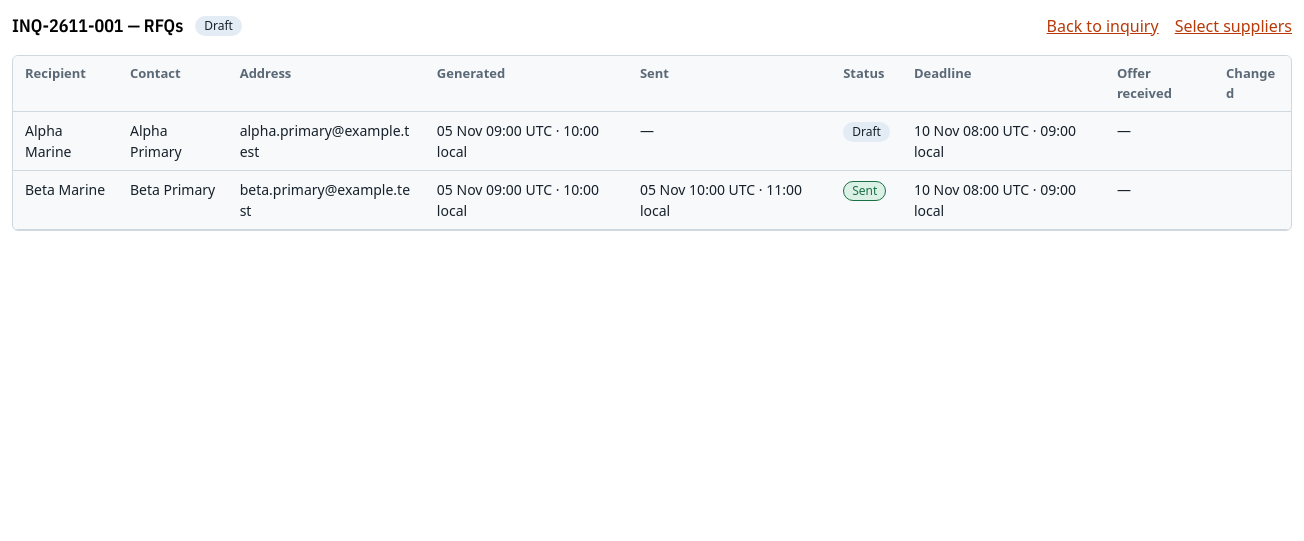
Test: RfqLog › [B3-R13] switching rows shows one preview, never the previous one beside it
This screenshot has width=1304, height=541.
Step 1. Click the cell "Beta Marine" → click(65, 200), box [13,170,118,230]
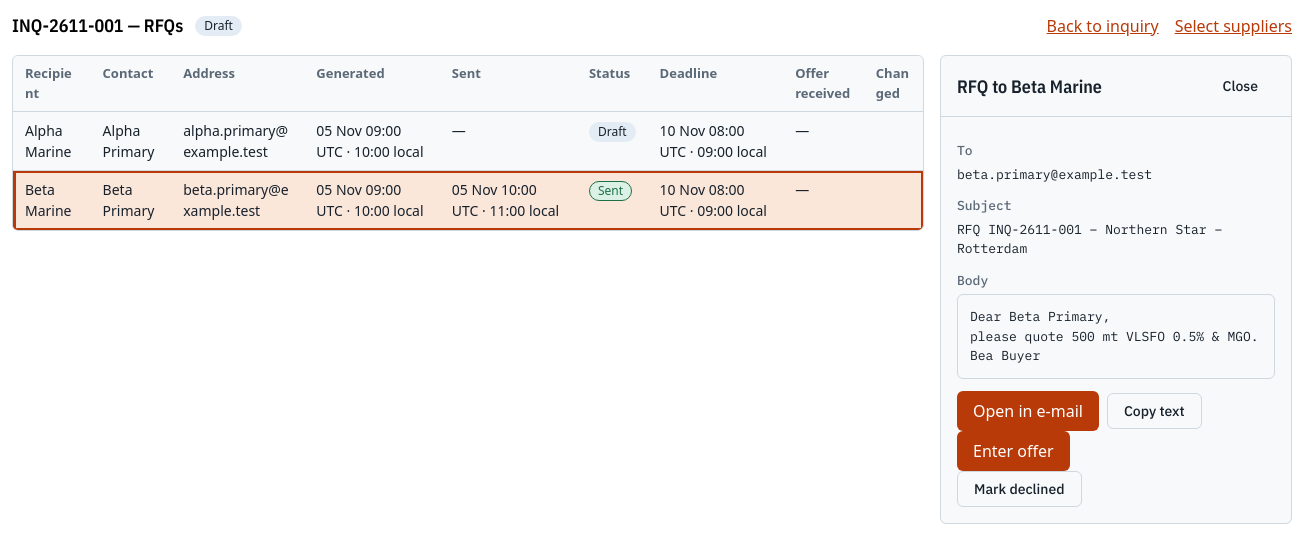
Check: the link "Open in e-mail" is shown, box [957,390,1099,430]
Step 2. Click the cell "Alpha Marine" → click(52, 141), box [13,112,91,170]
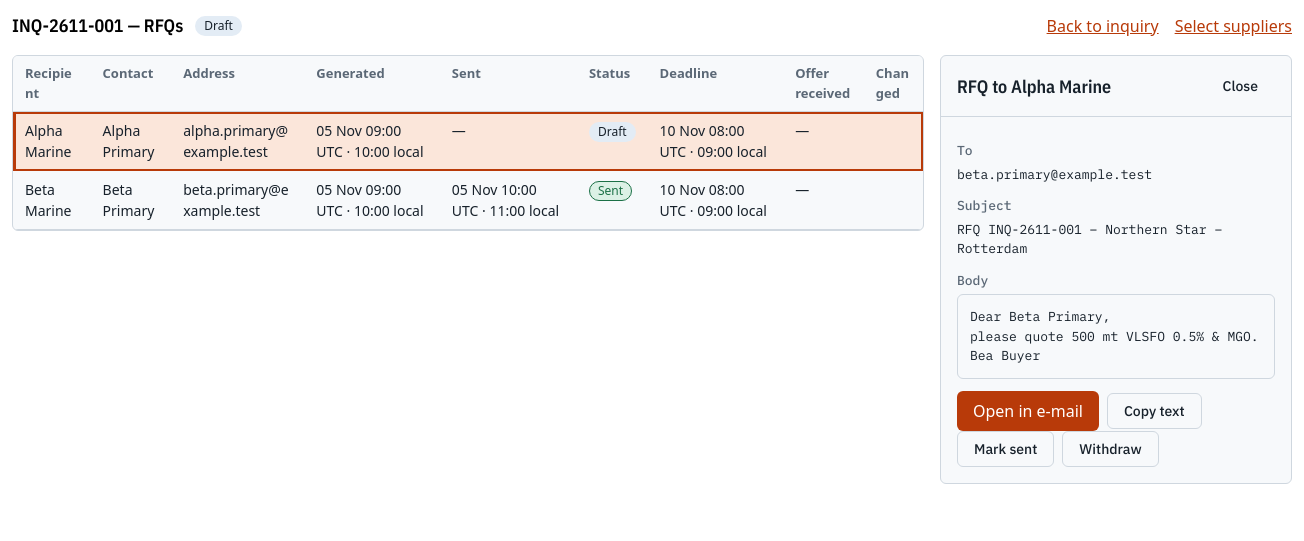
Check: the button "Mark sent" is shown, box [957,430,1054,466]
Check: the number of links "Open in e-mail" is 1, box [957,390,1099,430]
